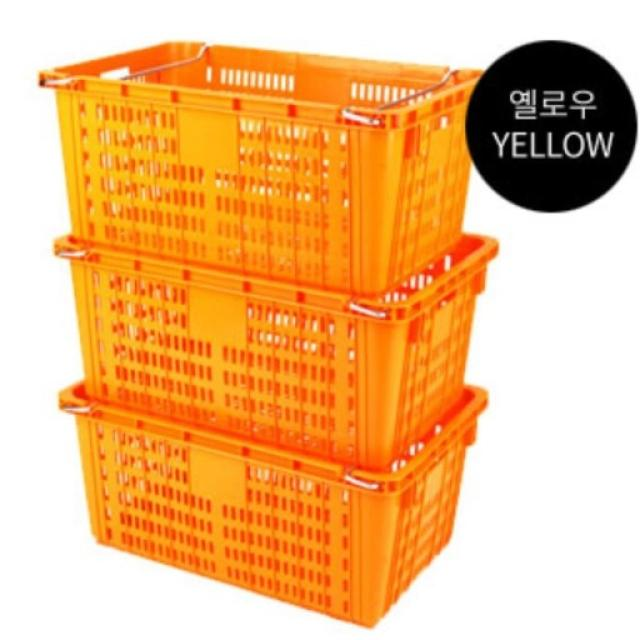basket: (22, 30, 482, 306), (58, 384, 489, 628), (55, 236, 500, 471)
